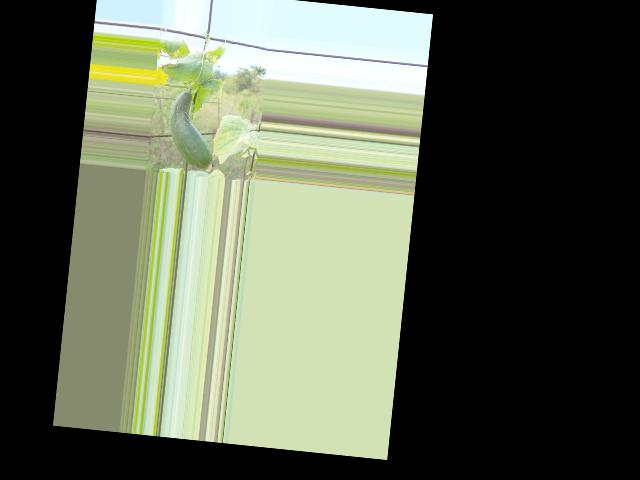cucumber: (165, 88, 219, 170)
